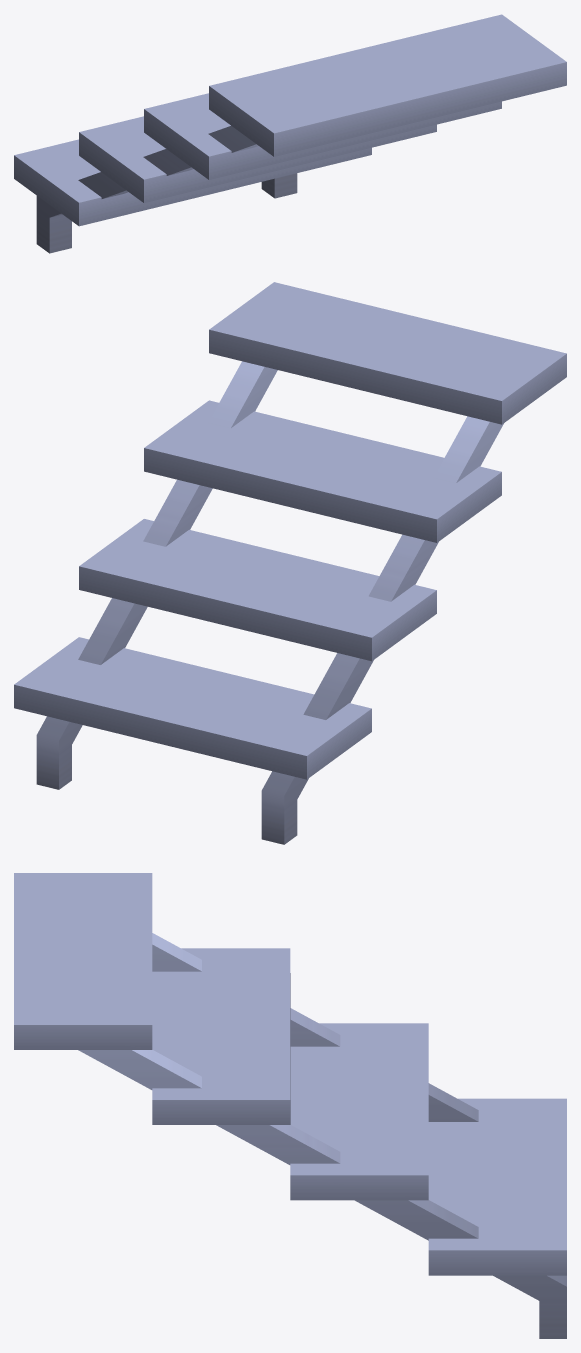
File: building_stairs_open_short.glb
The picture shows the model from 3 angles, top to bottom: view 1: azimuth 30°, elevation 25°; view 2: azimuth 150°, elevation 25°; view 3: azimuth 270°, elevation 25°; orthographic projection. The views are drawn at different scales.
Parts seen in each view (by area): view 1: stairs-open-short; view 2: stairs-open-short; view 3: stairs-open-short.
Part boxes in pixels (<box>): stairs-open-short: <box>14,14,566,253</box>; stairs-open-short: <box>14,282,566,844</box>; stairs-open-short: <box>14,873,566,1338</box>.
Bounding box in the file's own units: 1.3 × 1.3 × 2.
Materials: 1 (1 with a texture image).
